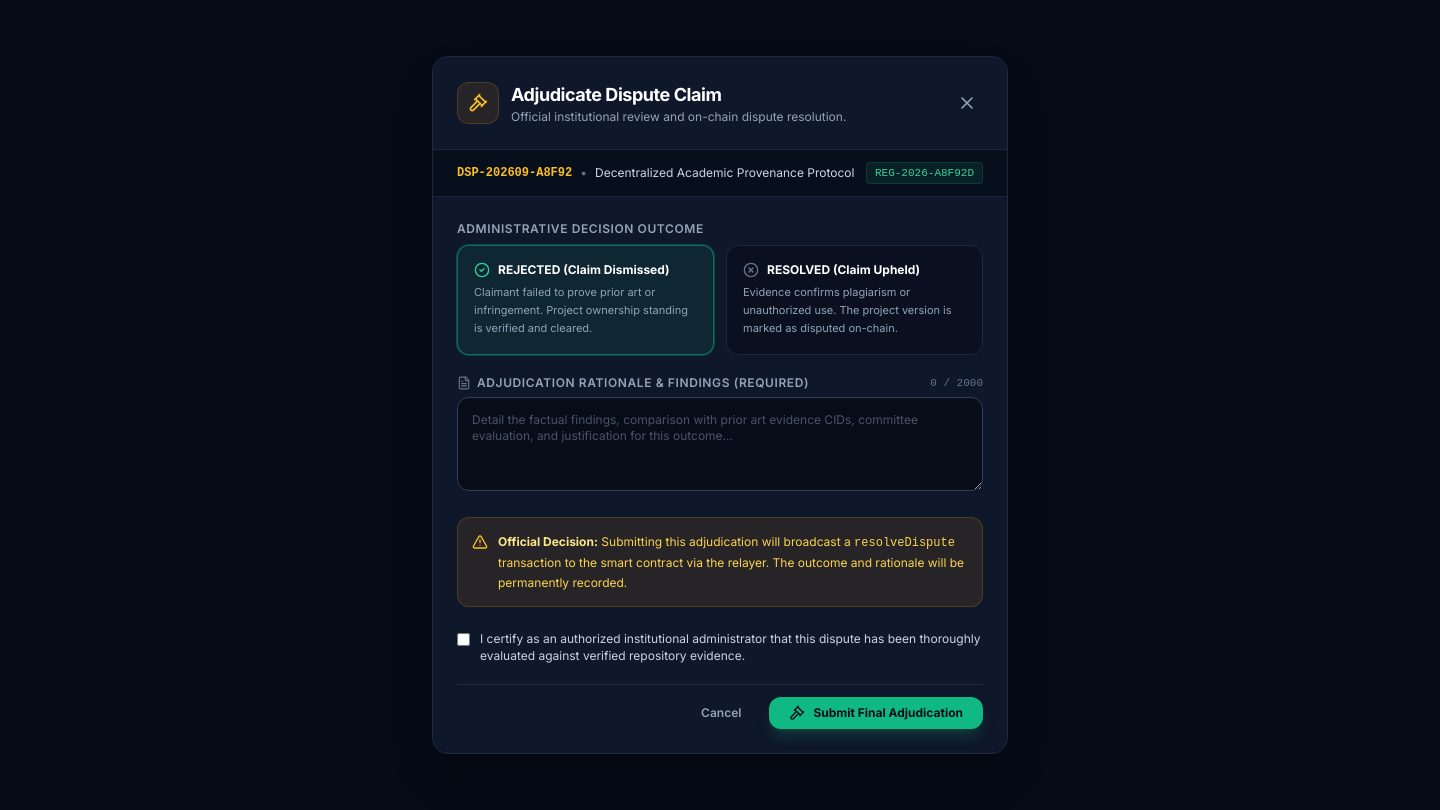
Test case: Frontend Disputes & Resolution Module Tests › Admin Dispute Adjudication Workflow › handles 403 Forbidden error when non-admin attempts adjudication
The width and height of the screenshot is (1440, 810).
Replace the text in the text box with placeholder "Detail the factual findings" with "Administrative decision notes test.": point(720, 444) x1=457 y1=397 x2=983 y2=491
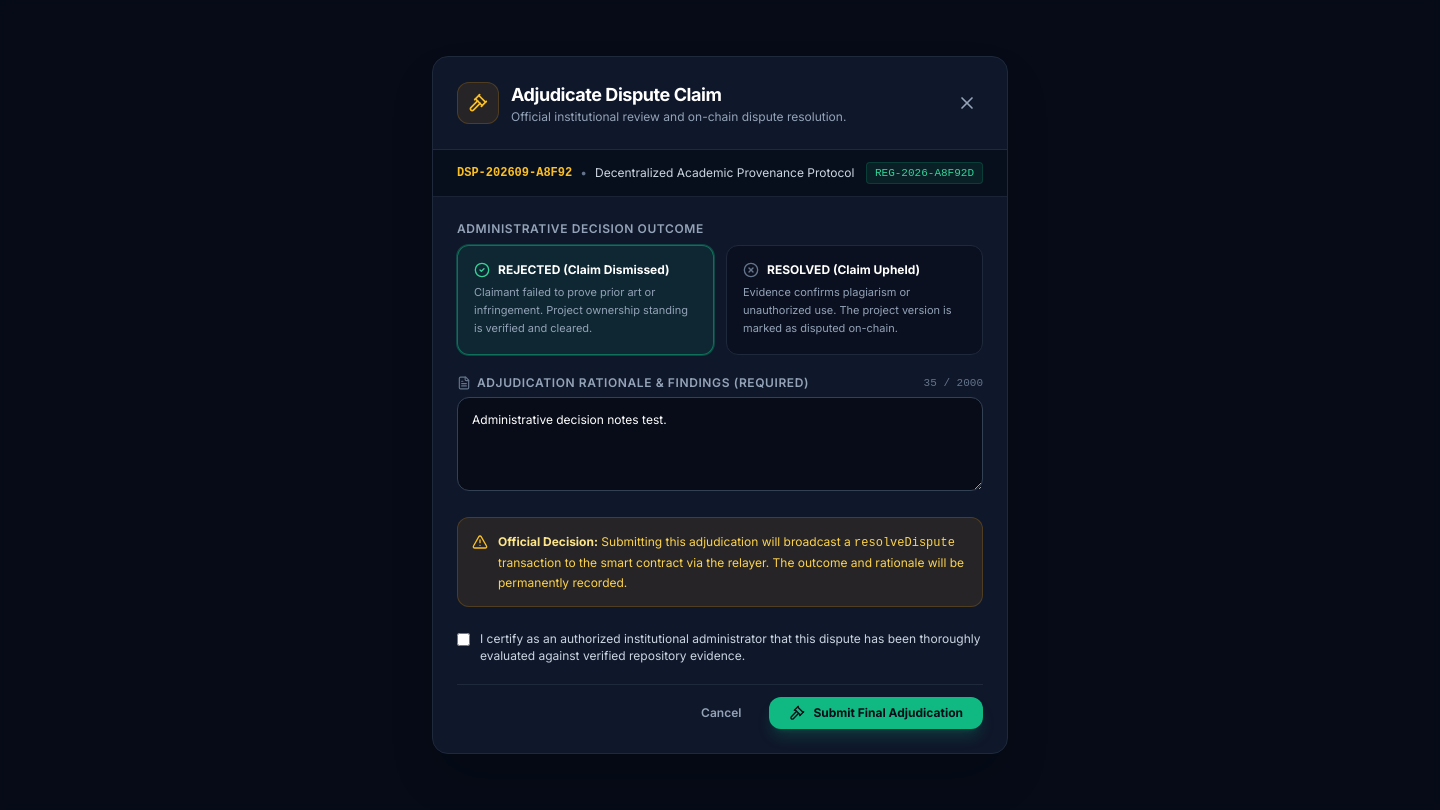
Click the checkbox: point(464, 640) x1=457 y1=633 x2=470 y2=646
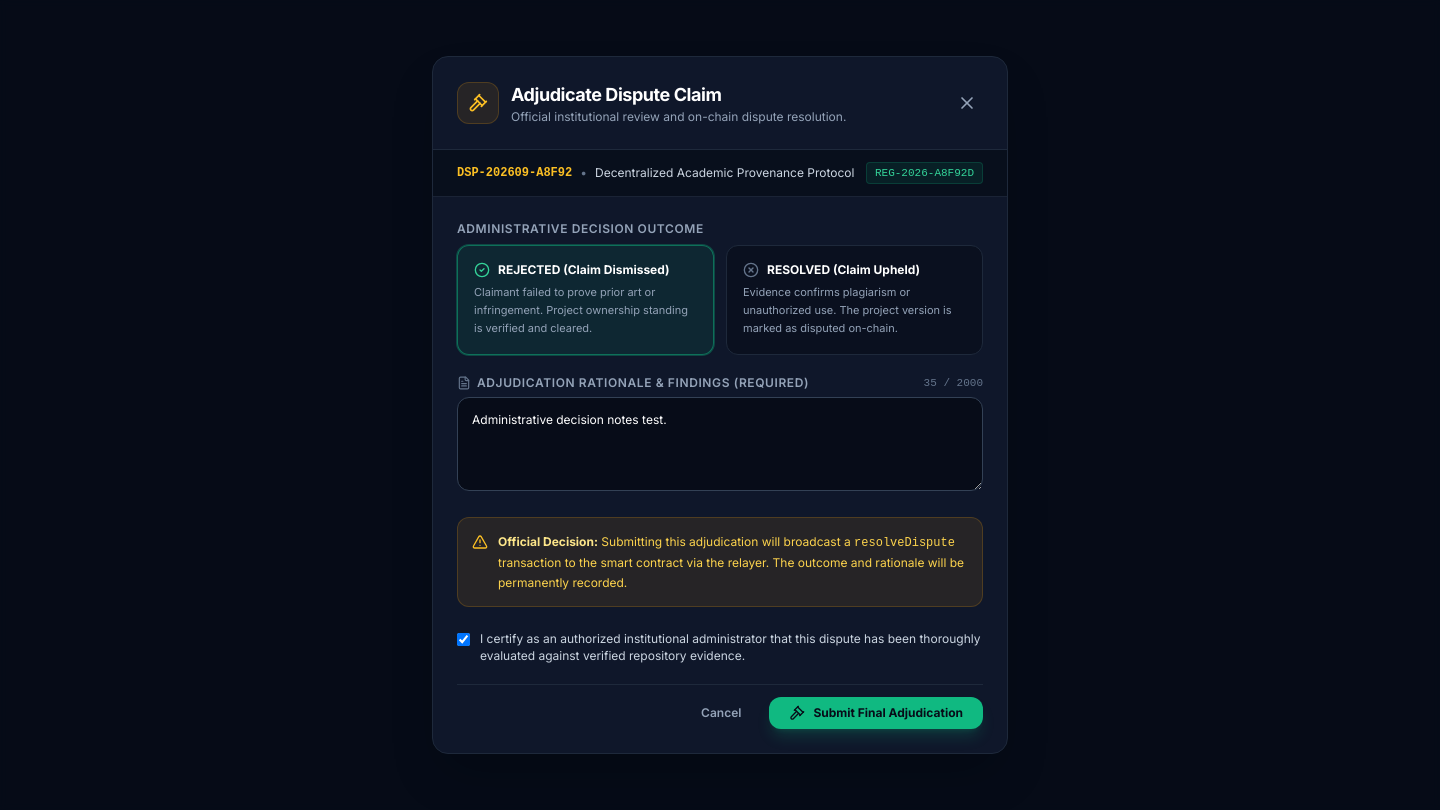
Click the button "Submit Final Adjudication": point(876, 713) x1=769 y1=697 x2=983 y2=729
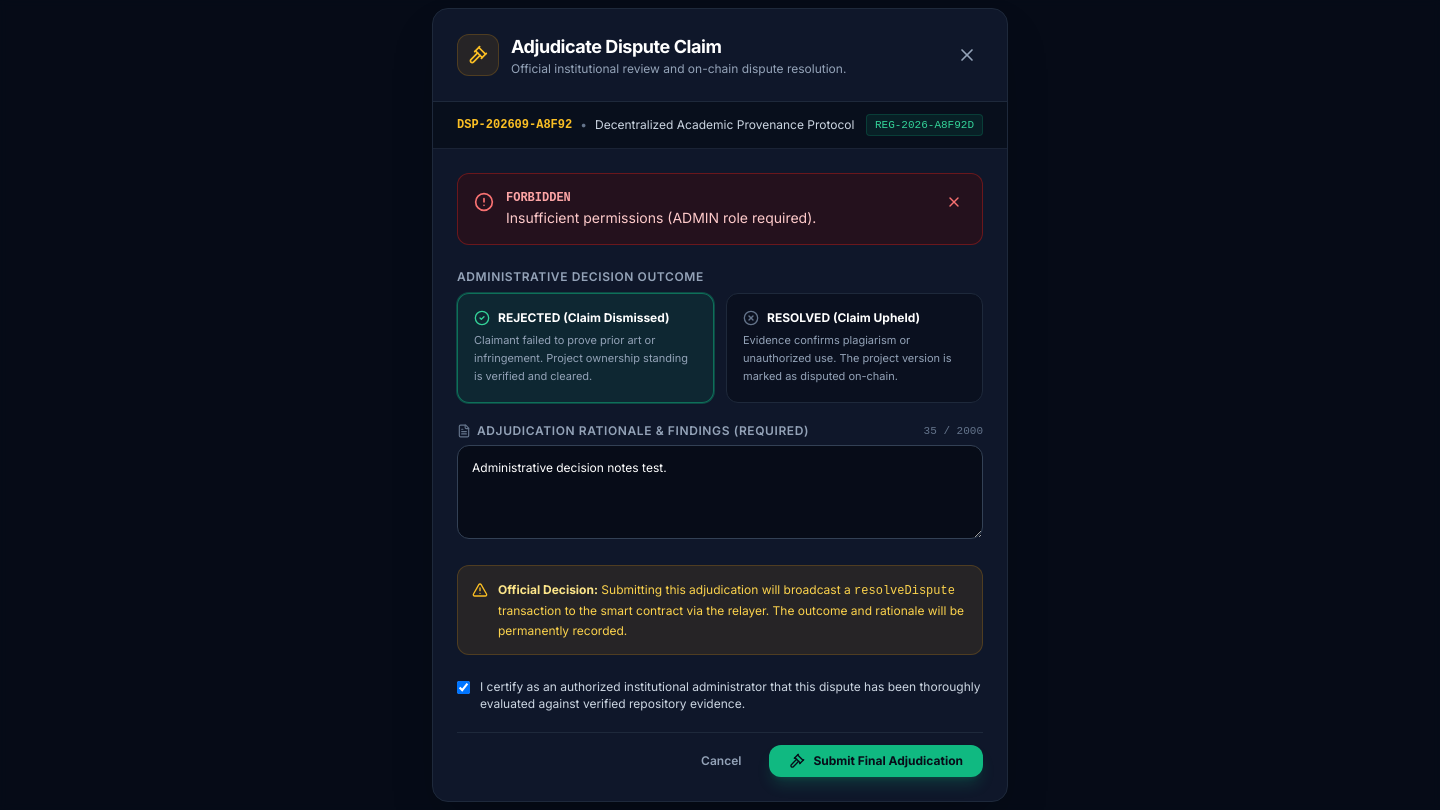
Result: the text "Insufficient permissions (ADMIN role required)." is shown at x1=506 y1=208 x2=816 y2=228
